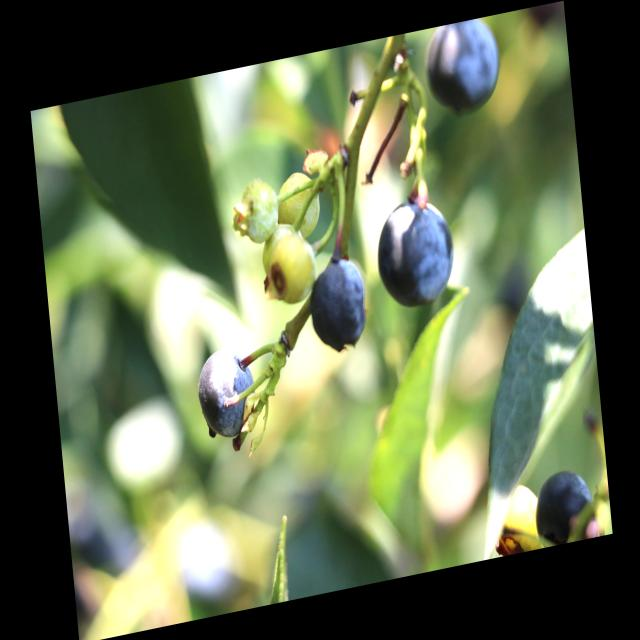blueberry: (370, 193, 458, 314), (419, 15, 506, 120), (304, 252, 372, 357), (195, 341, 262, 447), (530, 465, 600, 549)
blueberry-unripe: (258, 220, 316, 311), (232, 171, 284, 249), (272, 162, 323, 236)
